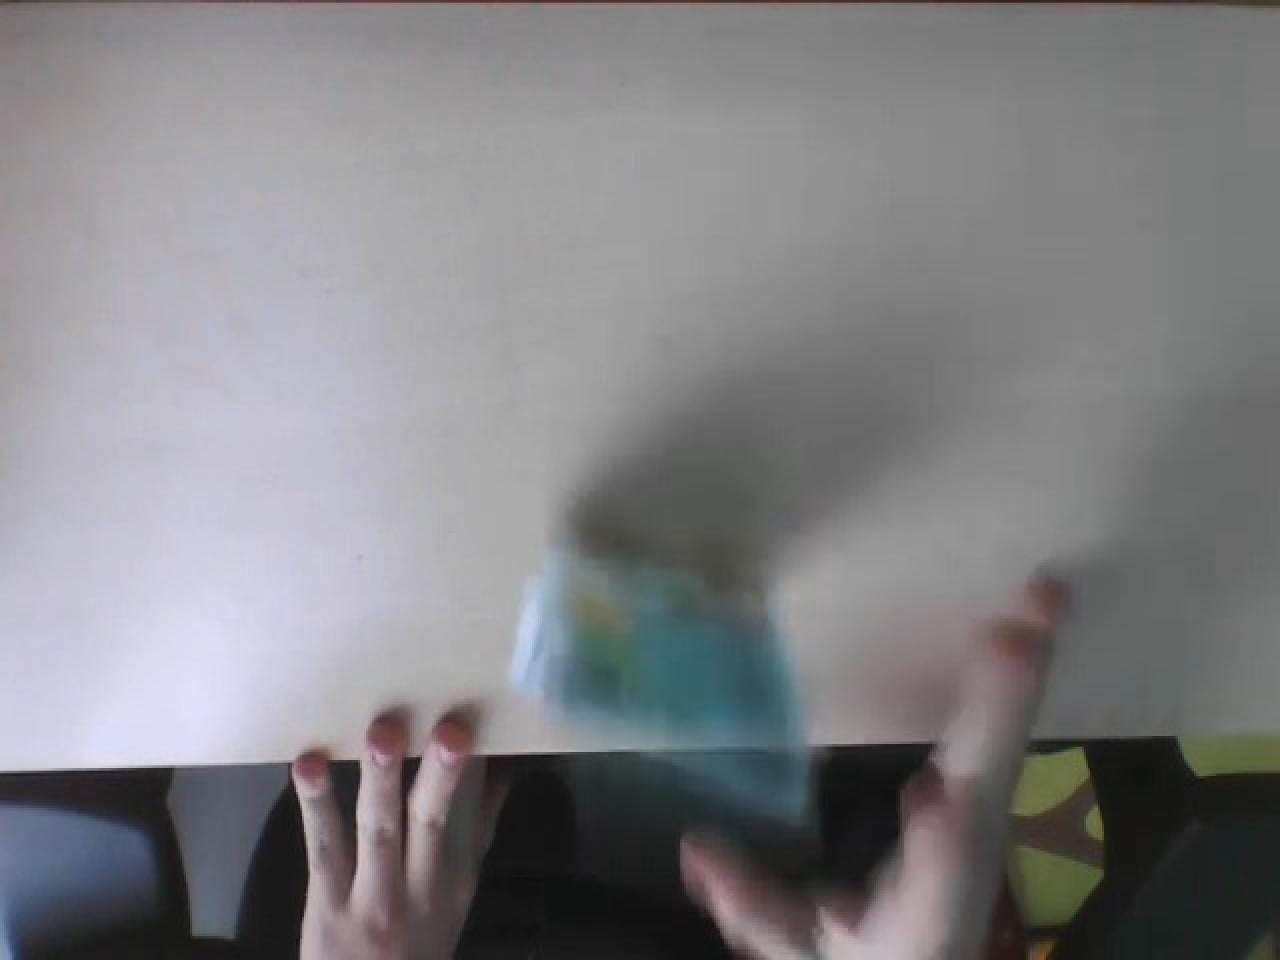100leva: (2, 8, 1276, 782)
